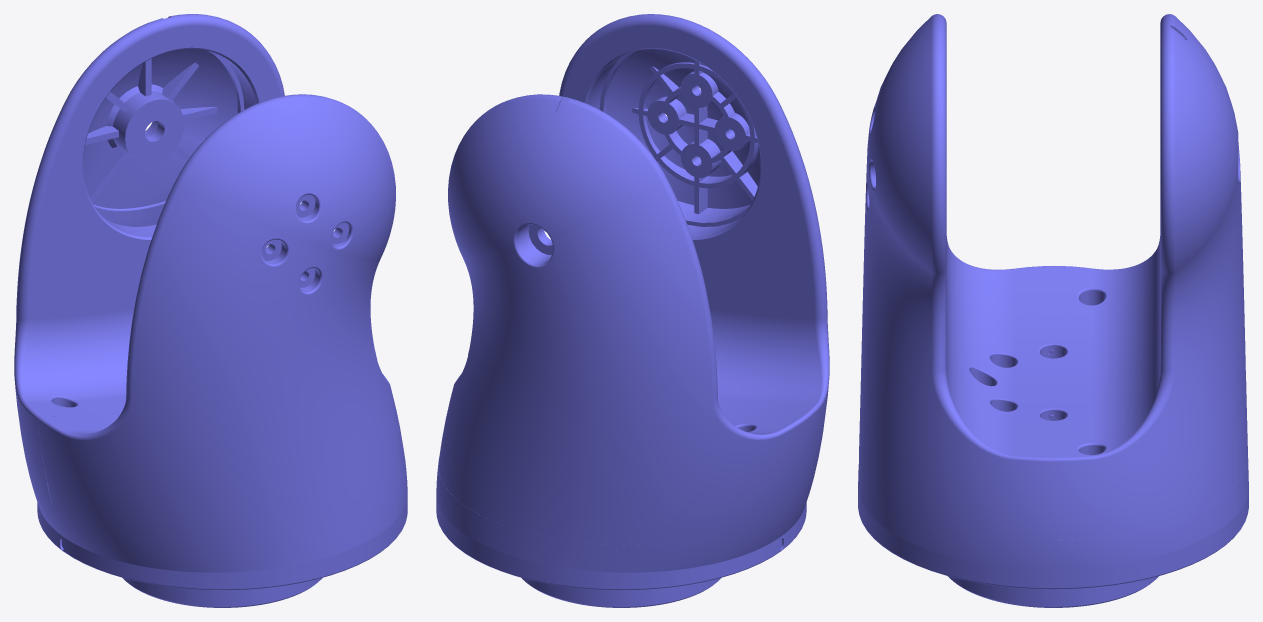
3 views of the same model, side by side, from view 1: azimuth 30°, elevation 25°; view 2: azimuth 150°, elevation 25°; view 3: azimuth 270°, elevation 25° (orthographic). The views are drawn at different scales.
Visible parts, largest first — view 1: Brep (×2); view 2: Brep (×2); view 3: Brep (×2).
Boxes of the visible parts, bbox=[...] form: Brep (×2): bbox=[14, 14, 407, 607]; Brep (×2): bbox=[436, 14, 829, 607]; Brep (×2): bbox=[858, 14, 1248, 607].
Bounding box in the file's own units: 92.37 × 85.99 × 130.
